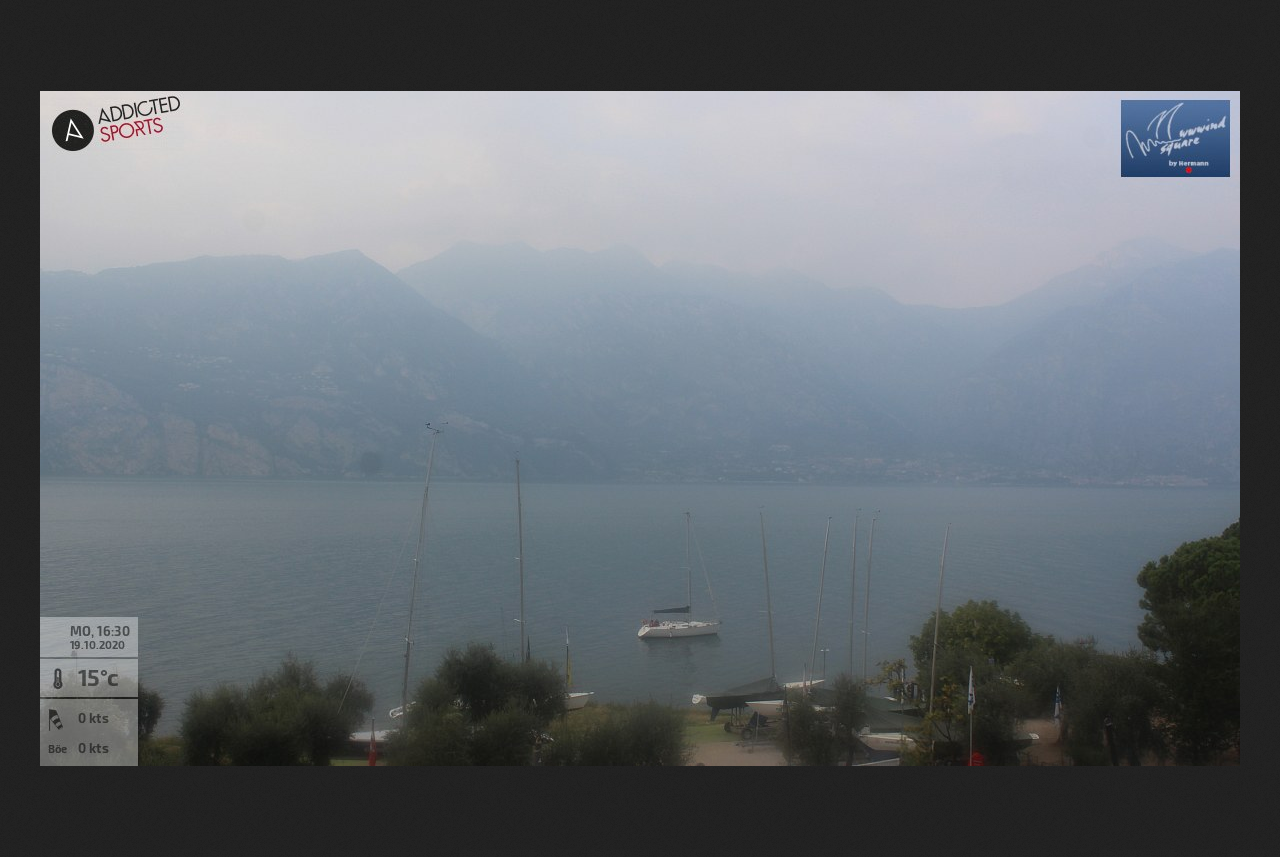no: (1048, 679, 1068, 726), (965, 665, 979, 716)
